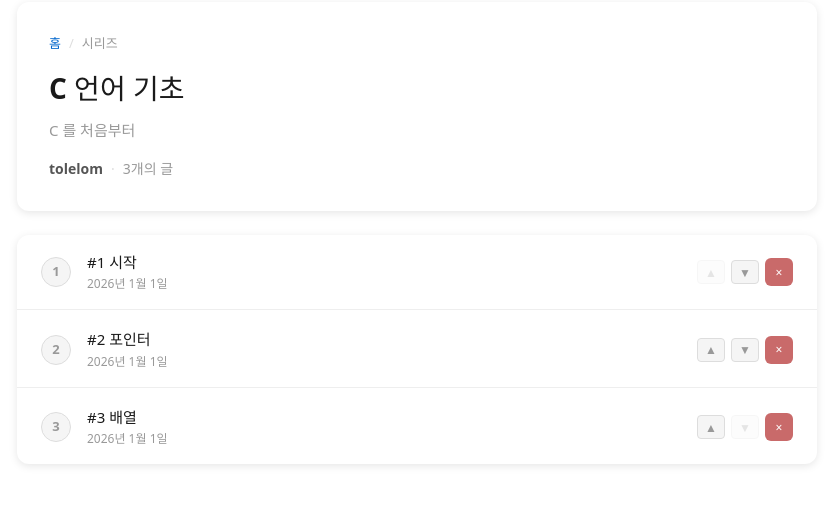
SeriesDetailPage › 순서 저장이 실패하면 오류를 보여 주고 서버 순서로 되돌린다
This screenshot has width=835, height=516.
Check: the heading "C 언어 기초" is shown, box 49,68 -> 184,106
Click the button named "위로 이동" at (711, 427), box 697,415 -> 725,439
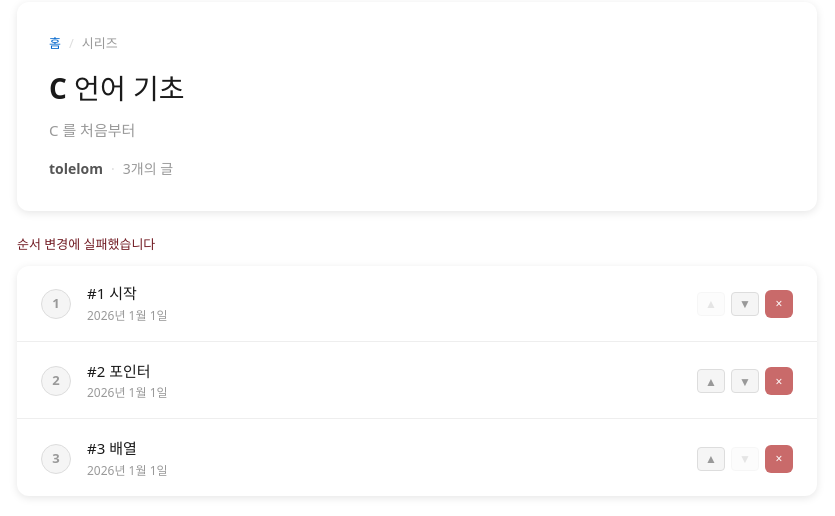
Check: the text "순서 변경에 실패했습니다" is shown, box 17,235 -> 155,253
